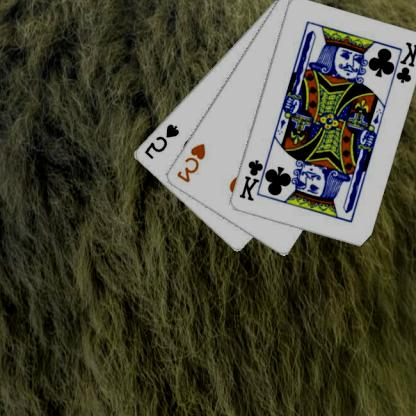3H: (175, 140, 209, 184)
5S: (143, 121, 182, 160)
KC: (238, 156, 272, 202), (388, 40, 416, 86)
